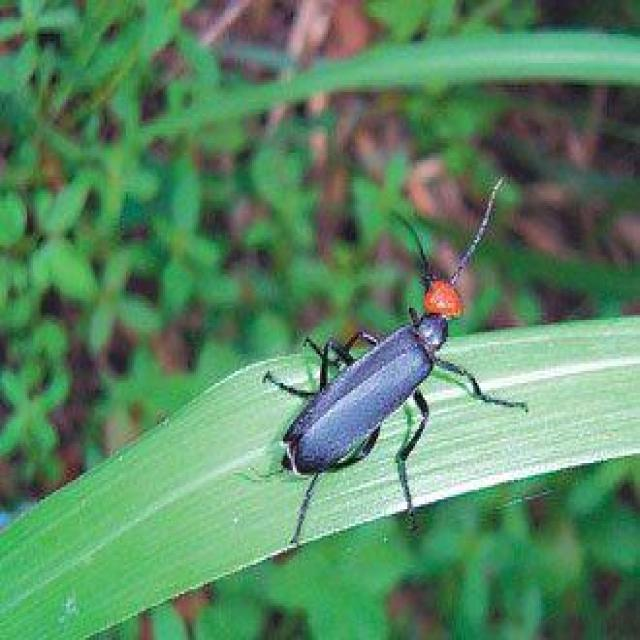BlisterBeetle-Adult-: (255, 172, 538, 550)
